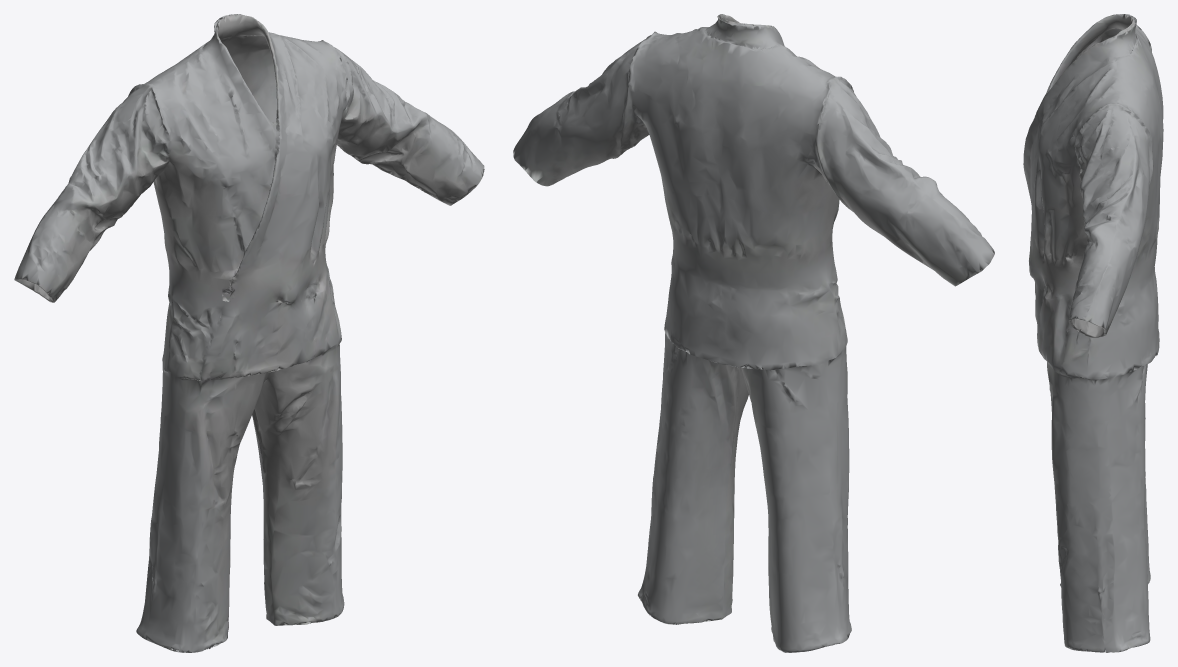
File: dogi.glb
3 renders of one model, left to right at view 1: azimuth 30°, elevation 25°; view 2: azimuth 150°, elevation 25°; view 3: azimuth 270°, elevation 25°, orthographic. The views are drawn at different scales.
Visible parts, largest first — view 1: tripo_node_ee25d23f-b6bc-4374-b433-0eac73df1dc3; view 2: tripo_node_ee25d23f-b6bc-4374-b433-0eac73df1dc3; view 3: tripo_node_ee25d23f-b6bc-4374-b433-0eac73df1dc3.
Boxes of the visible parts, x1=… form: tripo_node_ee25d23f-b6bc-4374-b433-0eac73df1dc3: x1=14, y1=14, x2=484, y2=652; tripo_node_ee25d23f-b6bc-4374-b433-0eac73df1dc3: x1=513, y1=14, x2=994, y2=652; tripo_node_ee25d23f-b6bc-4374-b433-0eac73df1dc3: x1=1023, y1=14, x2=1163, y2=652.
Size of the model in its own units: 1.28 by 1.58 by 0.3364.
1 material, 1 textured.
